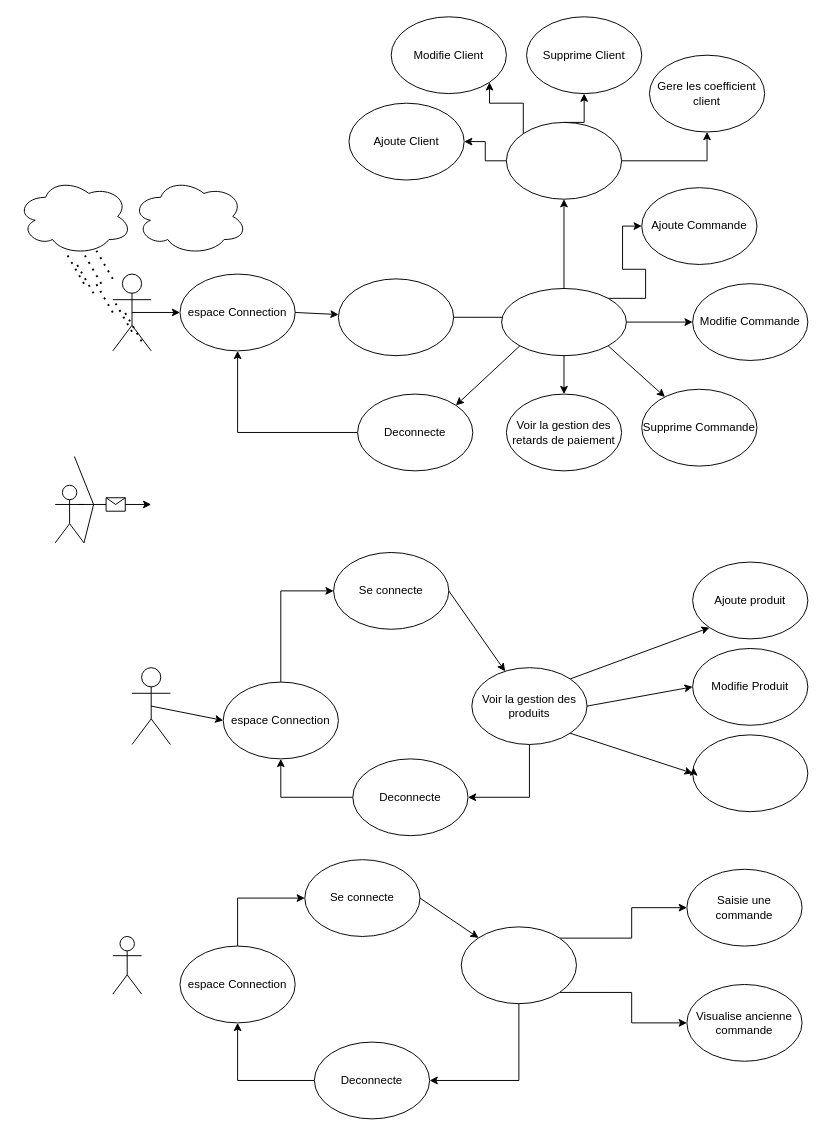
Some shapes in this 825 by 1136 pixel diagram are drawn without their labels. Here are the shapes that lost their labels. From the top down, the box of each, then its label:
(505, 121, 622, 199): Gestion des clients
(112, 273, 151, 351): Commercial
(337, 278, 454, 356): Connecte
(501, 288, 626, 356): Voir la gestion des commandes
(54, 484, 84, 543): Archer
(131, 667, 170, 744): Gestionnaire
(692, 734, 808, 812): Supprime Produit
(112, 936, 142, 994): Maxance
(460, 926, 576, 1004): Voir le catalogue
